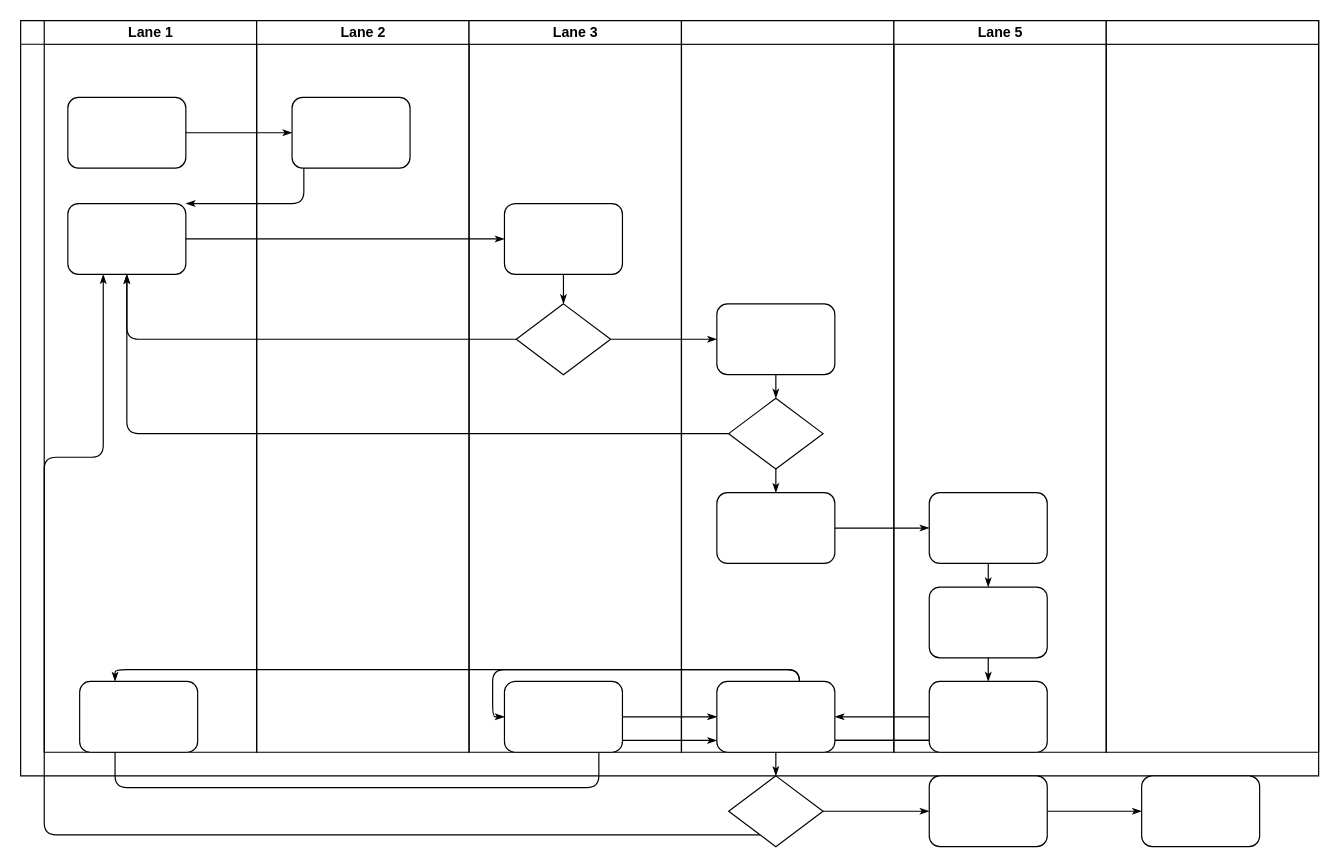
The diagram is 1339 pixels wide and 867 high, and some of its shapes have lost their labels. The box of each missing label's shape, as (x1, y1, x2, y2) in pixels:
Lane 4: (680, 19, 894, 752)
Lane 6: (1105, 19, 1319, 752)
